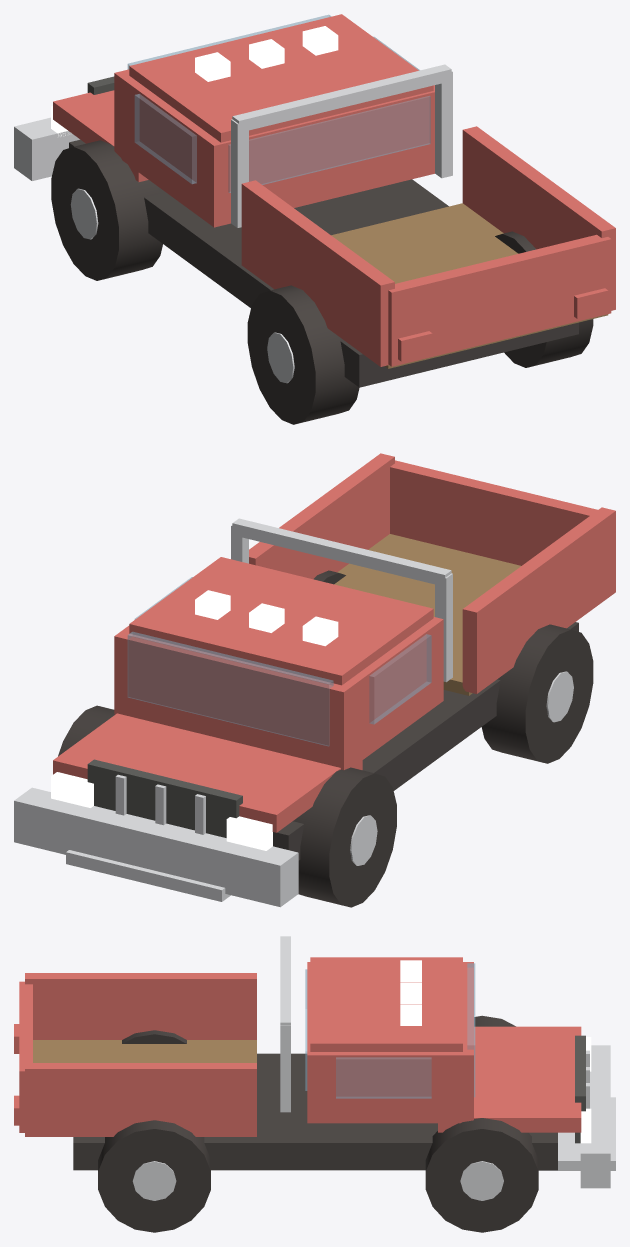
File: taters-truck.glb
3 renders of one model, top to bottom at view 1: azimuth 30°, elevation 25°; view 2: azimuth 150°, elevation 25°; view 3: azimuth 270°, elevation 25°, orthographic. The views are drawn at different scales.
Visible parts, largest first — view 1: Cab, Tailgate, CabRoof, Chassis, BedSide_L, Wheel_FL, BedSide_R, Wheel_RL, RearWindow, BedFloor, RollBar, Window_L (+13 smaller); view 2: Cab, CabRoof, Bumper, Hood, BedSide_L, Windshield, Tailgate, Wheel_FL, Wheel_RL, BedSide_R, BedFloor, Chassis (+13 smaller); view 3: BedSide_R, Chassis, BedSide_L, Cab, CabRoof, Hood, Wheel_FR, Wheel_RR, BedFloor, Window_R, Bumper, Tailgate (+11 smaller).
Boxes of the visible parts, x1,y1,x2,y2 form: Cab: (114,69,434,227); Tailgate: (388,234,611,366); CabRoof: (129,14,433,142); Chassis: (69,139,578,387); BedSide_L: (241,180,394,366); Wheel_FL: (51,140,162,280); BedSide_R: (462,126,615,310); Wheel_RL: (247,285,359,424); RearWindow: (228,96,430,192); BedFloor: (331,203,608,368); RollBar: (232,64,451,132); Window_L: (134,94,196,183); Cab: (114,617,443,770); CabRoof: (129,557,433,685); Bumper: (14,787,298,907); Hood: (53,713,362,832); BedSide_L: (462,507,615,693); Windshield: (127,632,333,746); Tailgate: (390,460,597,565); Wheel_FL: (293,767,396,907); Wheel_RL: (481,624,593,763); BedSide_R: (249,453,394,579); BedFloor: (334,534,520,695); Chassis: (273,622,578,860); BedSide_R: (25,1063,256,1136); Chassis: (73,1053,557,1170); BedSide_L: (25,973,256,1039); Cab: (307,962,473,1123); CabRoof: (310,957,462,1051); Hood: (438,1026,581,1132); Wheel_FR: (425,1118,538,1232); Wheel_RR: (98,1120,210,1232); BedFloor: (33,1040,256,1062); Window_R: (336,1057,431,1098); Bumper: (580,1045,610,1188); Tailgate: (19,981,32,1132).
Bounding box in the file's own units: 1.98 × 1.59 × 4.41.
